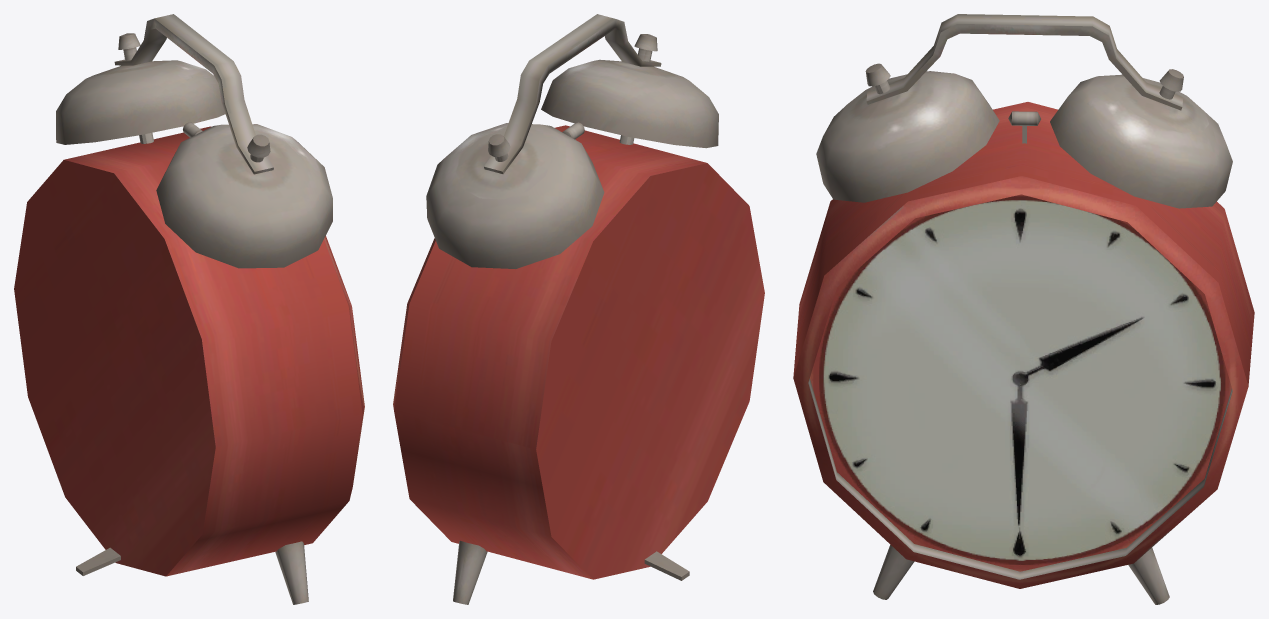
The model's file is Alarm_Clock.obj.
The picture shows the model from 3 angles, left to right: view 1: azimuth 30°, elevation 25°; view 2: azimuth 150°, elevation 25°; view 3: azimuth 270°, elevation 25°; orthographic projection. The views are drawn at different scales.
Visible parts, largest first — view 1: Alarm_Clock; view 2: Alarm_Clock; view 3: Alarm_Clock.
Part boxes in pixels (bbox=[...]): Alarm_Clock: bbox=[14, 14, 364, 604]; Alarm_Clock: bbox=[393, 14, 764, 604]; Alarm_Clock: bbox=[793, 14, 1254, 604].
Bounding box in the file's own units: 0.0629 × 0.1626 × 0.1215.
1 material, 1 textured.
